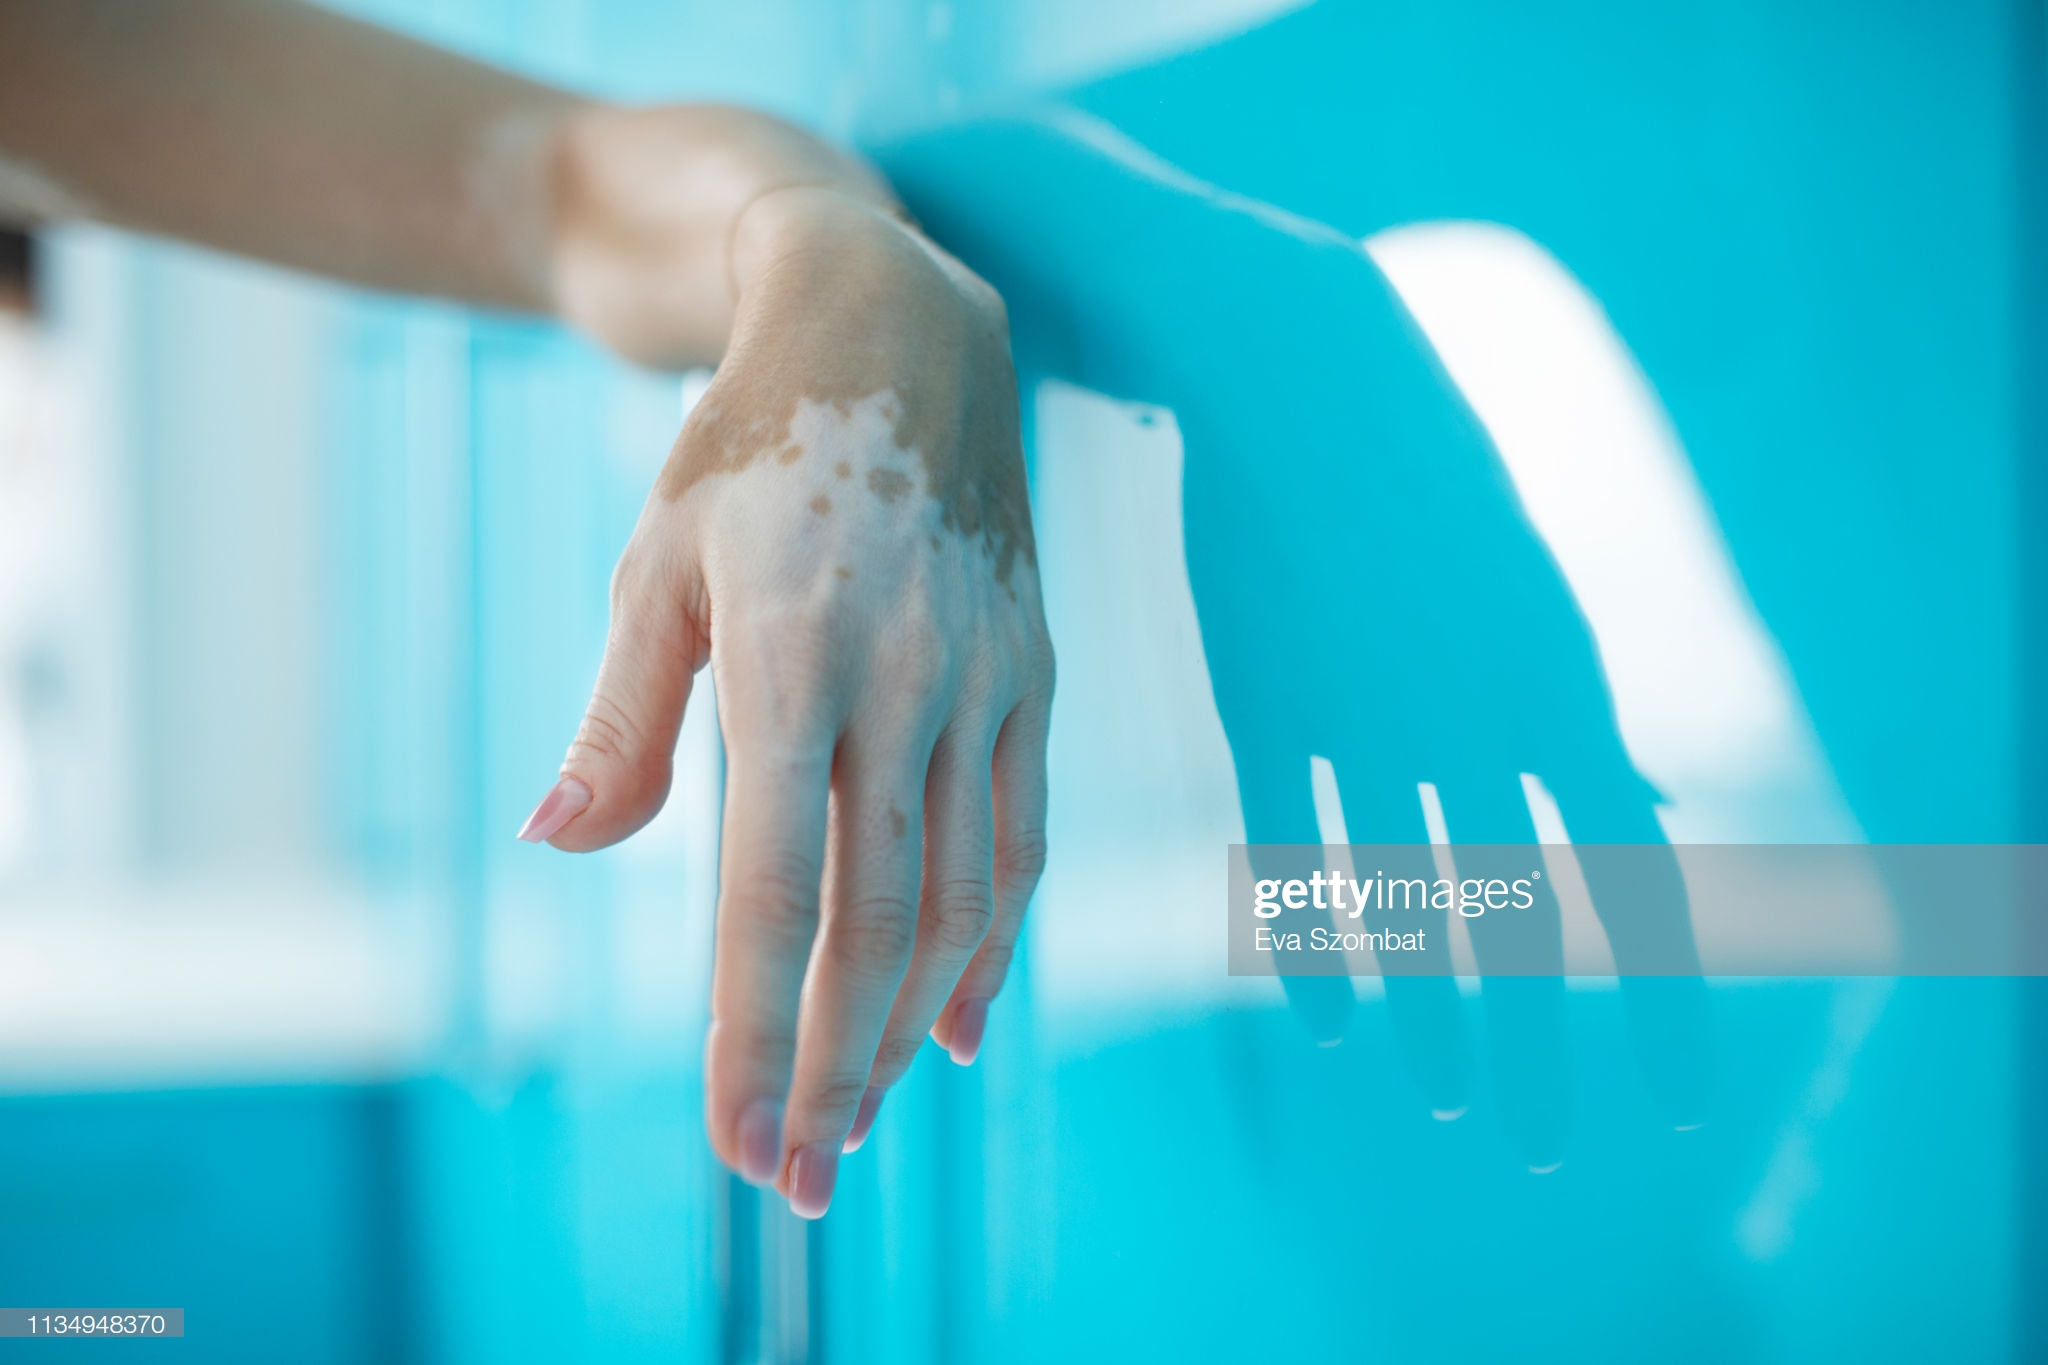vitiligo: (661, 366, 1054, 1076)
